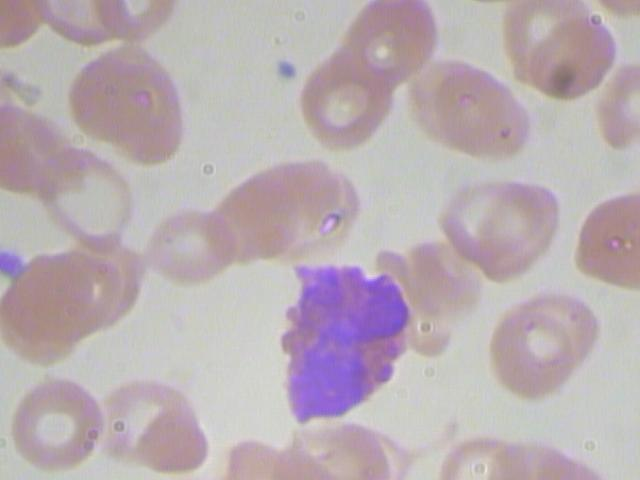RBC: (61, 38, 192, 176), (37, 142, 139, 256), (4, 376, 110, 475), (294, 50, 400, 149), (337, 1, 441, 96), (485, 308, 584, 407), (429, 65, 528, 164), (435, 180, 548, 266), (524, 15, 623, 106), (567, 193, 640, 294), (146, 208, 231, 286), (136, 395, 216, 476), (435, 426, 527, 477), (598, 60, 640, 152)
